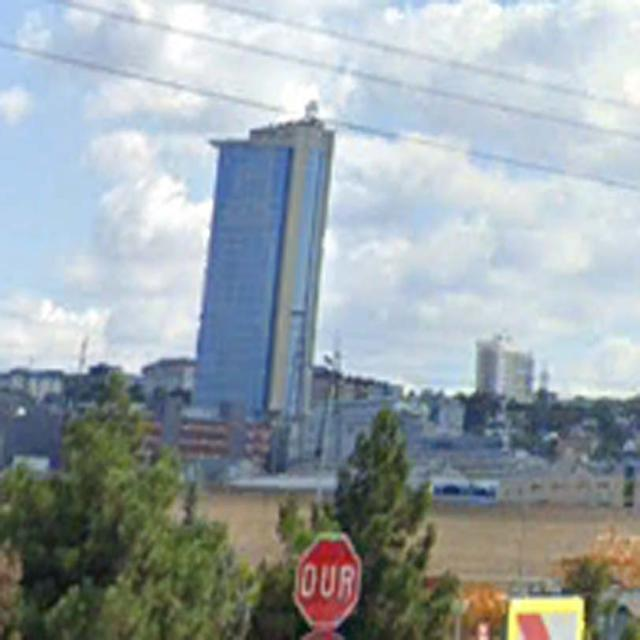dur: (290, 532, 363, 625)
